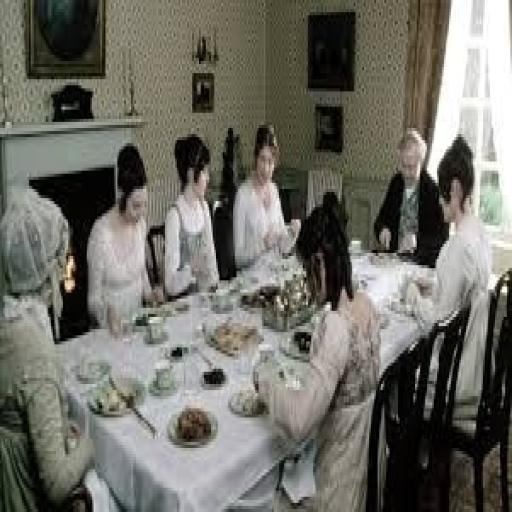eating: (2, 110, 496, 503)
